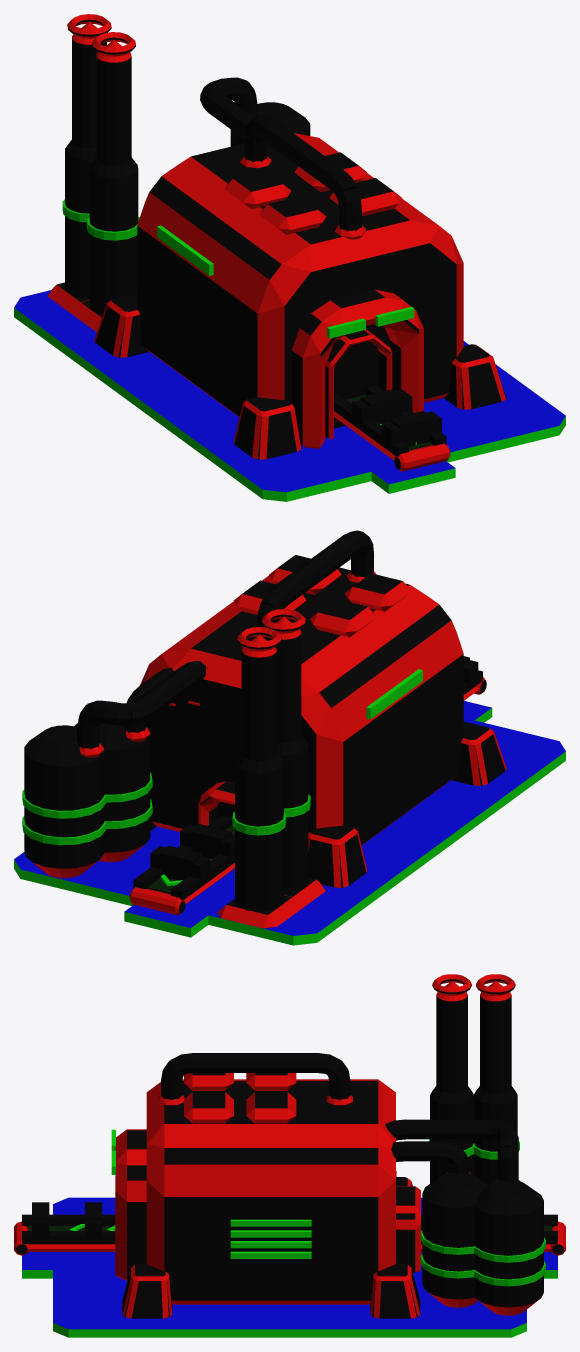
File: SM_Holo_Refinery_T2_Mini.fbx
3 renders of one model, top to bottom at view 1: azimuth 30°, elevation 25°; view 2: azimuth 150°, elevation 25°; view 3: azimuth 270°, elevation 25°, orthographic. The views are drawn at different scales.
Visible parts, largest first — view 1: SM_Holo_Refinery_T2_Mini; view 2: SM_Holo_Refinery_T2_Mini; view 3: SM_Holo_Refinery_T2_Mini.
Boxes of the visible parts, box(x1,y1,x2,y2) form: SM_Holo_Refinery_T2_Mini: box(14, 14, 565, 501); SM_Holo_Refinery_T2_Mini: box(14, 530, 565, 945); SM_Holo_Refinery_T2_Mini: box(14, 974, 565, 1337).
Size of the model in its own units: 10 by 9.02 by 17.71.
